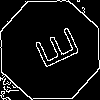E: (25, 25, 81, 75)
